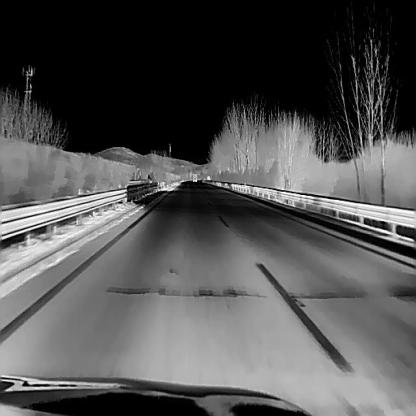truck: (192, 172, 196, 182)
